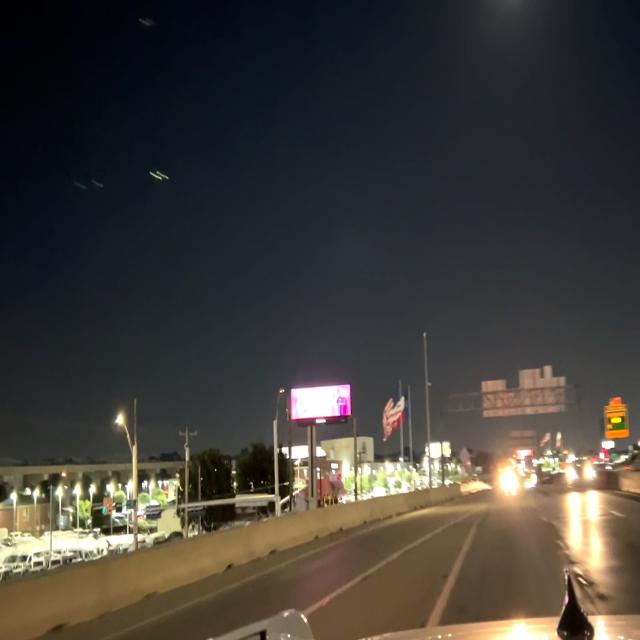back-of-sign: (479, 365, 569, 425)
